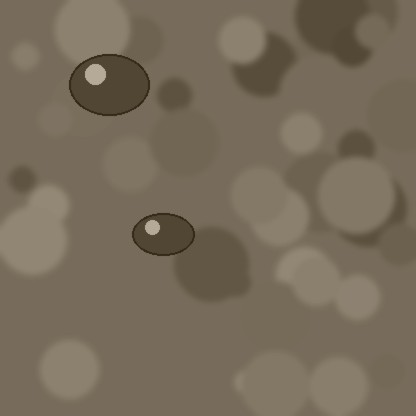gota: (69, 56, 149, 120), (132, 215, 194, 259)
